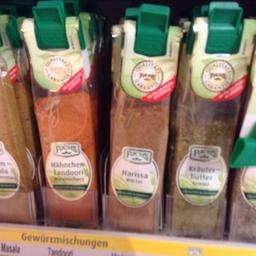spices: (170, 19, 252, 232), (20, 16, 100, 224), (104, 22, 178, 231)
